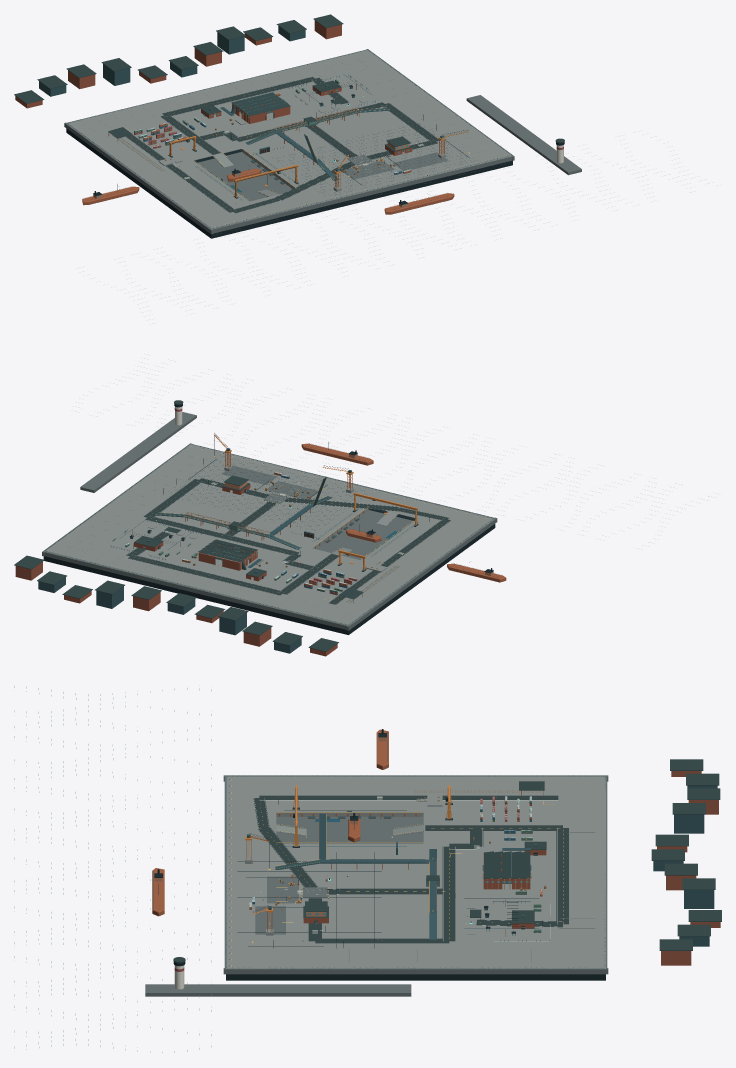
The model's file is old-harbor.glb.
3 views of the same model, one above another, from view 1: azimuth 30°, elevation 25°; view 2: azimuth 150°, elevation 25°; view 3: azimuth 270°, elevation 25° (orthographic). The views are drawn at different scales.
Visible parts, largest first — view 1: ground-concrete, detail-paving (×2), paint-asphalt, detail-roof, ground-dark, detail-steel (×2), ground-paving, detail-brick, paint-paving, detail-rust, roof-roof, bridge-steel; view 2: ground-concrete, paint-asphalt, detail-paving (×2), detail-roof, ground-dark, detail-steel (×2), detail-brick (×2), ground-paving, paint-paving, detail-rust, roof-roof, bridge-steel; view 3: ground-concrete, paint-asphalt, detail-paving (×2), detail-roof, ground-paving, ground-dark, detail-steel, paint-paving, roof-roof, detail-brick, paint-foam, paint-white (+4 smaller).
Part boxes in pixels (box(x1,y1,x2,y2)): ground-concrete: box(67, 50, 511, 229); detail-paving (×2): box(64, 49, 581, 234); paint-asphalt: box(126, 77, 439, 213); detail-roof: box(14, 14, 564, 142); ground-dark: box(66, 128, 512, 238); detail-steel (×2): box(39, 26, 512, 228); ground-paving: box(197, 152, 291, 201); detail-brick: box(15, 20, 341, 108); paint-paving: box(339, 141, 468, 183); detail-rust: box(82, 186, 454, 214); roof-roof: box(201, 92, 290, 116); bridge-steel: box(274, 110, 359, 162); ground-concrete: box(45, 444, 494, 624); paint-asphalt: box(126, 478, 450, 604); detail-paving (×2): box(42, 412, 497, 630); detail-roof: box(14, 400, 338, 651); ground-dark: box(43, 509, 495, 634); detail-steel (×2): box(38, 442, 502, 653); detail-brick (×2): box(15, 542, 337, 656); ground-paving: box(316, 510, 413, 559); paint-paving: box(191, 459, 327, 508); detail-rust: box(301, 443, 506, 582); roof-roof: box(198, 539, 266, 577); bridge-steel: box(185, 504, 312, 537); ground-concrete: box(226, 776, 605, 968); paint-asphalt: box(253, 795, 569, 943); detail-paving (×2): box(145, 775, 608, 996); detail-roof: box(173, 759, 721, 962); ground-paving: box(276, 817, 423, 843); ground-dark: box(226, 974, 605, 980); detail-steel: box(153, 731, 717, 946); paint-paving: box(255, 876, 298, 934); roof-roof: box(484, 841, 546, 879); detail-brick: box(657, 771, 720, 965); paint-foam: box(14, 686, 211, 1052); paint-white: box(254, 796, 569, 943).
Size of what is drawn, in the model's own units: 917 by 67.94 by 746.
